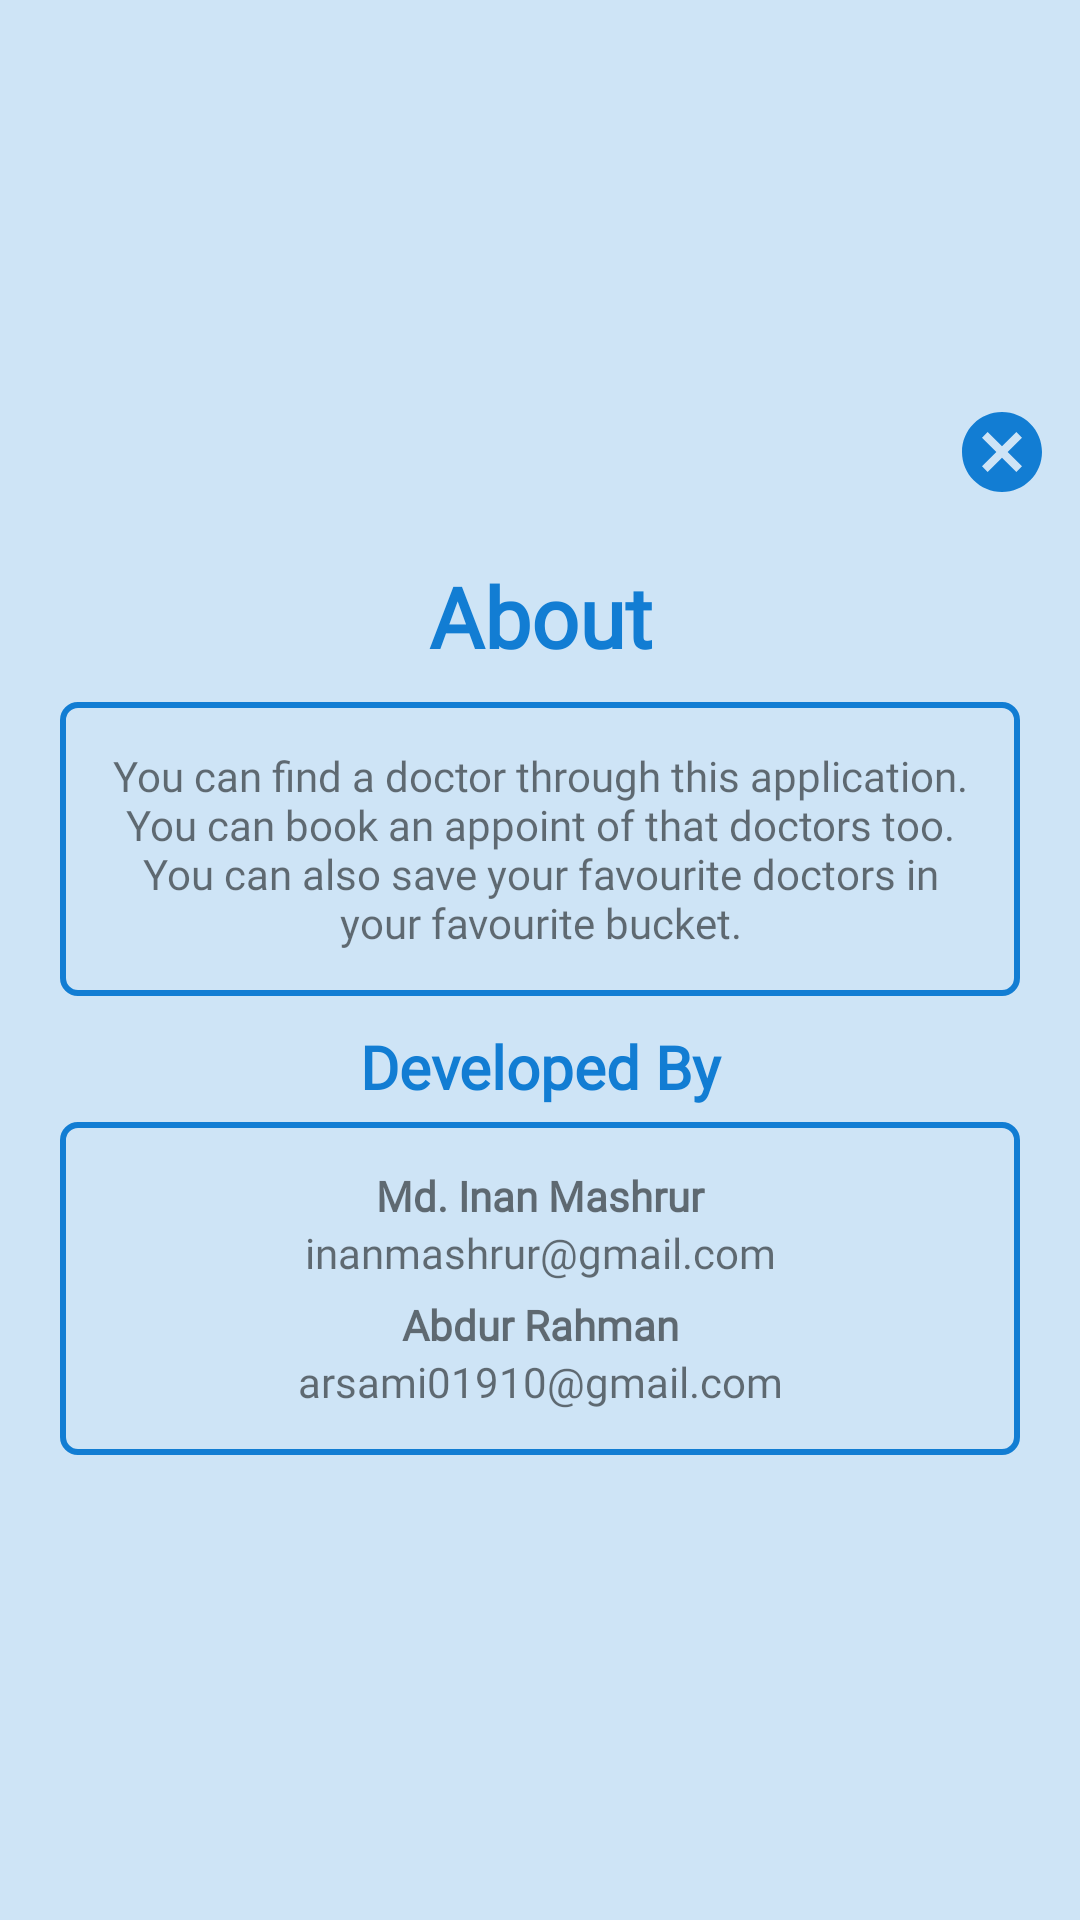

Where to tap for icons on this 1080×1920 app screen, as (x=x, y=y):
cancel: (x=1002, y=452)
